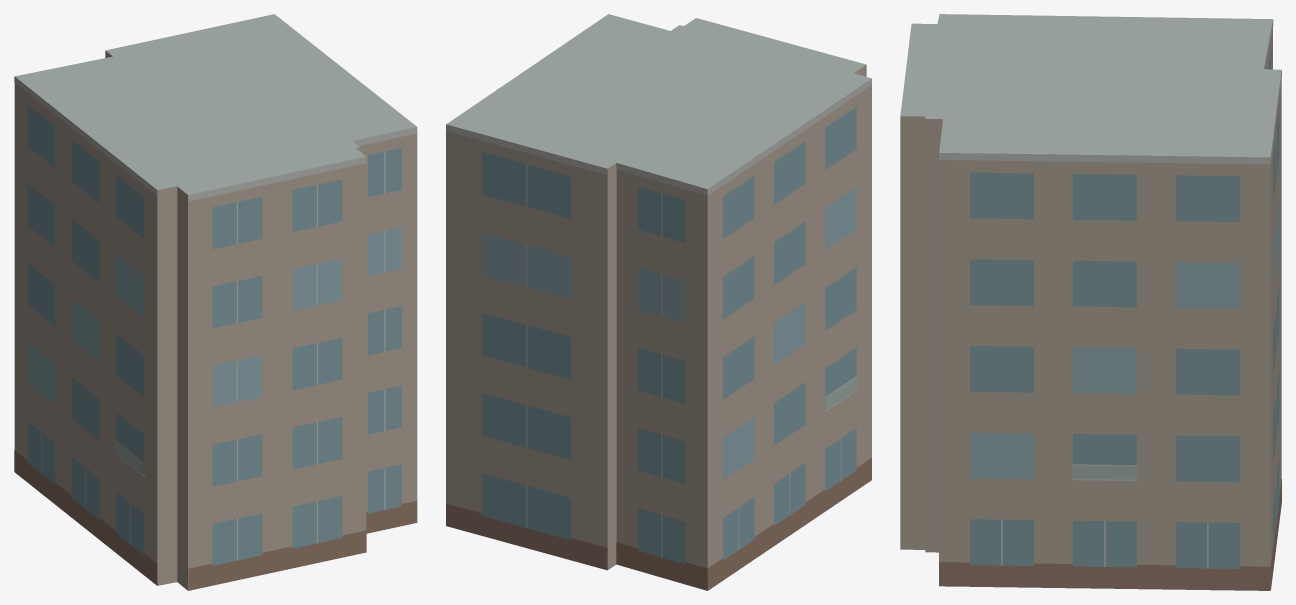
Rendered from survey-upis-33002730.glb.
The picture shows the model from 3 angles, left to right: view 1: azimuth 30°, elevation 25°; view 2: azimuth 150°, elevation 25°; view 3: azimuth 270°, elevation 25°; orthographic projection. The views are drawn at different scales.
Parts seen in each view (by area): view 1: survey-upis-33002730.tmp; view 2: survey-upis-33002730.tmp; view 3: survey-upis-33002730.tmp.
Part boxes in pixels (left/top/right/bottom): survey-upis-33002730.tmp: left=14, top=14, right=417, bottom=590; survey-upis-33002730.tmp: left=446, top=14, right=871, bottom=590; survey-upis-33002730.tmp: left=900, top=14, right=1281, bottom=590.
Bounding box in the file's own units: 10.58 × 14.9 × 11.89.
